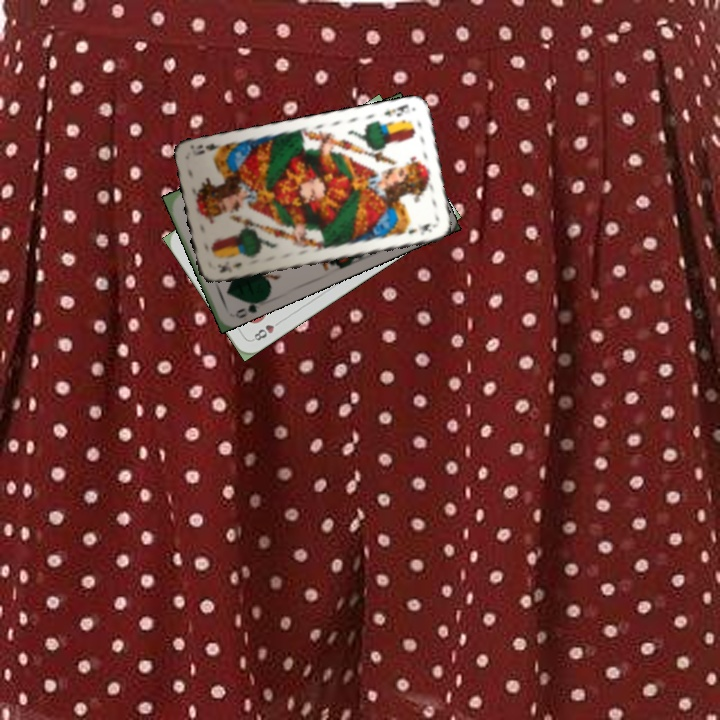EK: (380, 100, 411, 119), (213, 258, 244, 276)
GO: (231, 295, 267, 321)
H8: (248, 316, 284, 343)
